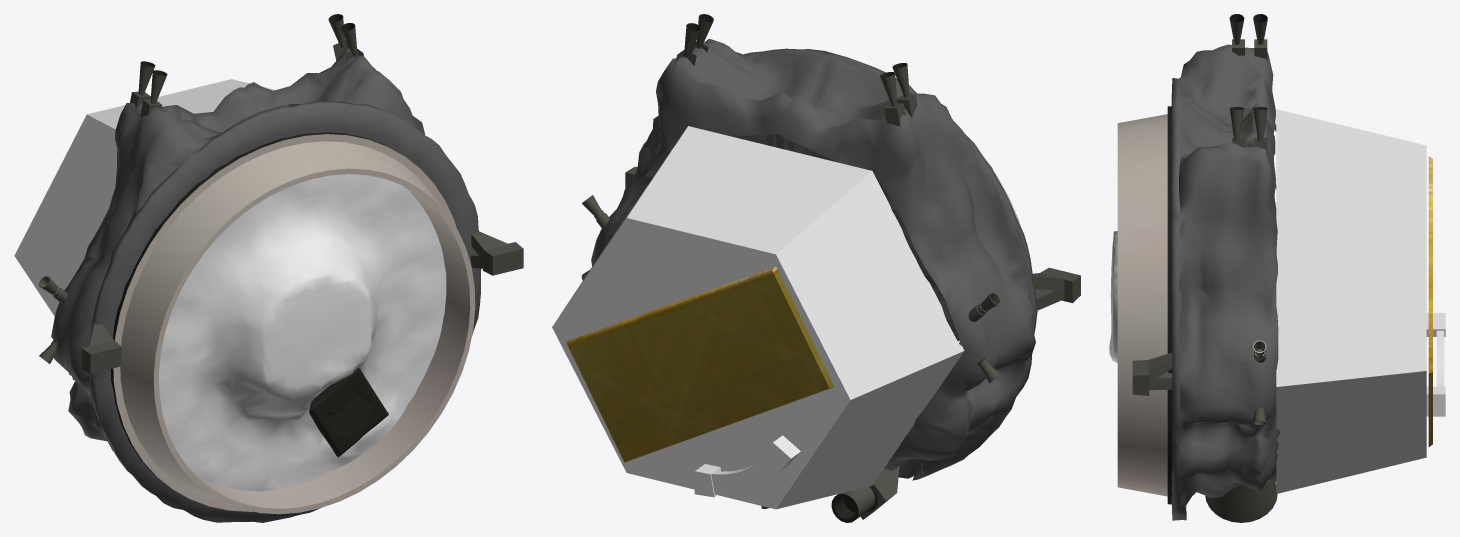
Rendered from deep_impact_impactor.gltf.
The picture shows the model from 3 angles, left to right: view 1: azimuth 30°, elevation 25°; view 2: azimuth 150°, elevation 25°; view 3: azimuth 270°, elevation 25°; orthographic projection. The views are drawn at different scales.
Parts seen in each view (by area): view 1: foil_silver_I, tex_01_I, black_krinkle_I, aluminum_I; view 2: aluminum_I, black_krinkle_I, tex_01_I; view 3: aluminum_I, black_krinkle_I, tex_01_I, foil_silver_I.
Part boxes in pixels (x1,y1,x2,y2): foil_silver_I: [159, 174, 446, 491]; tex_01_I: [39, 14, 523, 514]; black_krinkle_I: [51, 48, 481, 522]; aluminum_I: [14, 79, 275, 316]; aluminum_I: [552, 126, 964, 509]; black_krinkle_I: [591, 39, 1037, 480]; tex_01_I: [566, 14, 1080, 522]; aluminum_I: [1276, 109, 1445, 493]; black_krinkle_I: [1171, 44, 1280, 520]; tex_01_I: [1117, 14, 1432, 522]; foil_silver_I: [1109, 231, 1117, 363].
Size of the model in its own units: 1.25 by 1.25 by 0.8549.
Materials: 4 (1 with a texture image).
